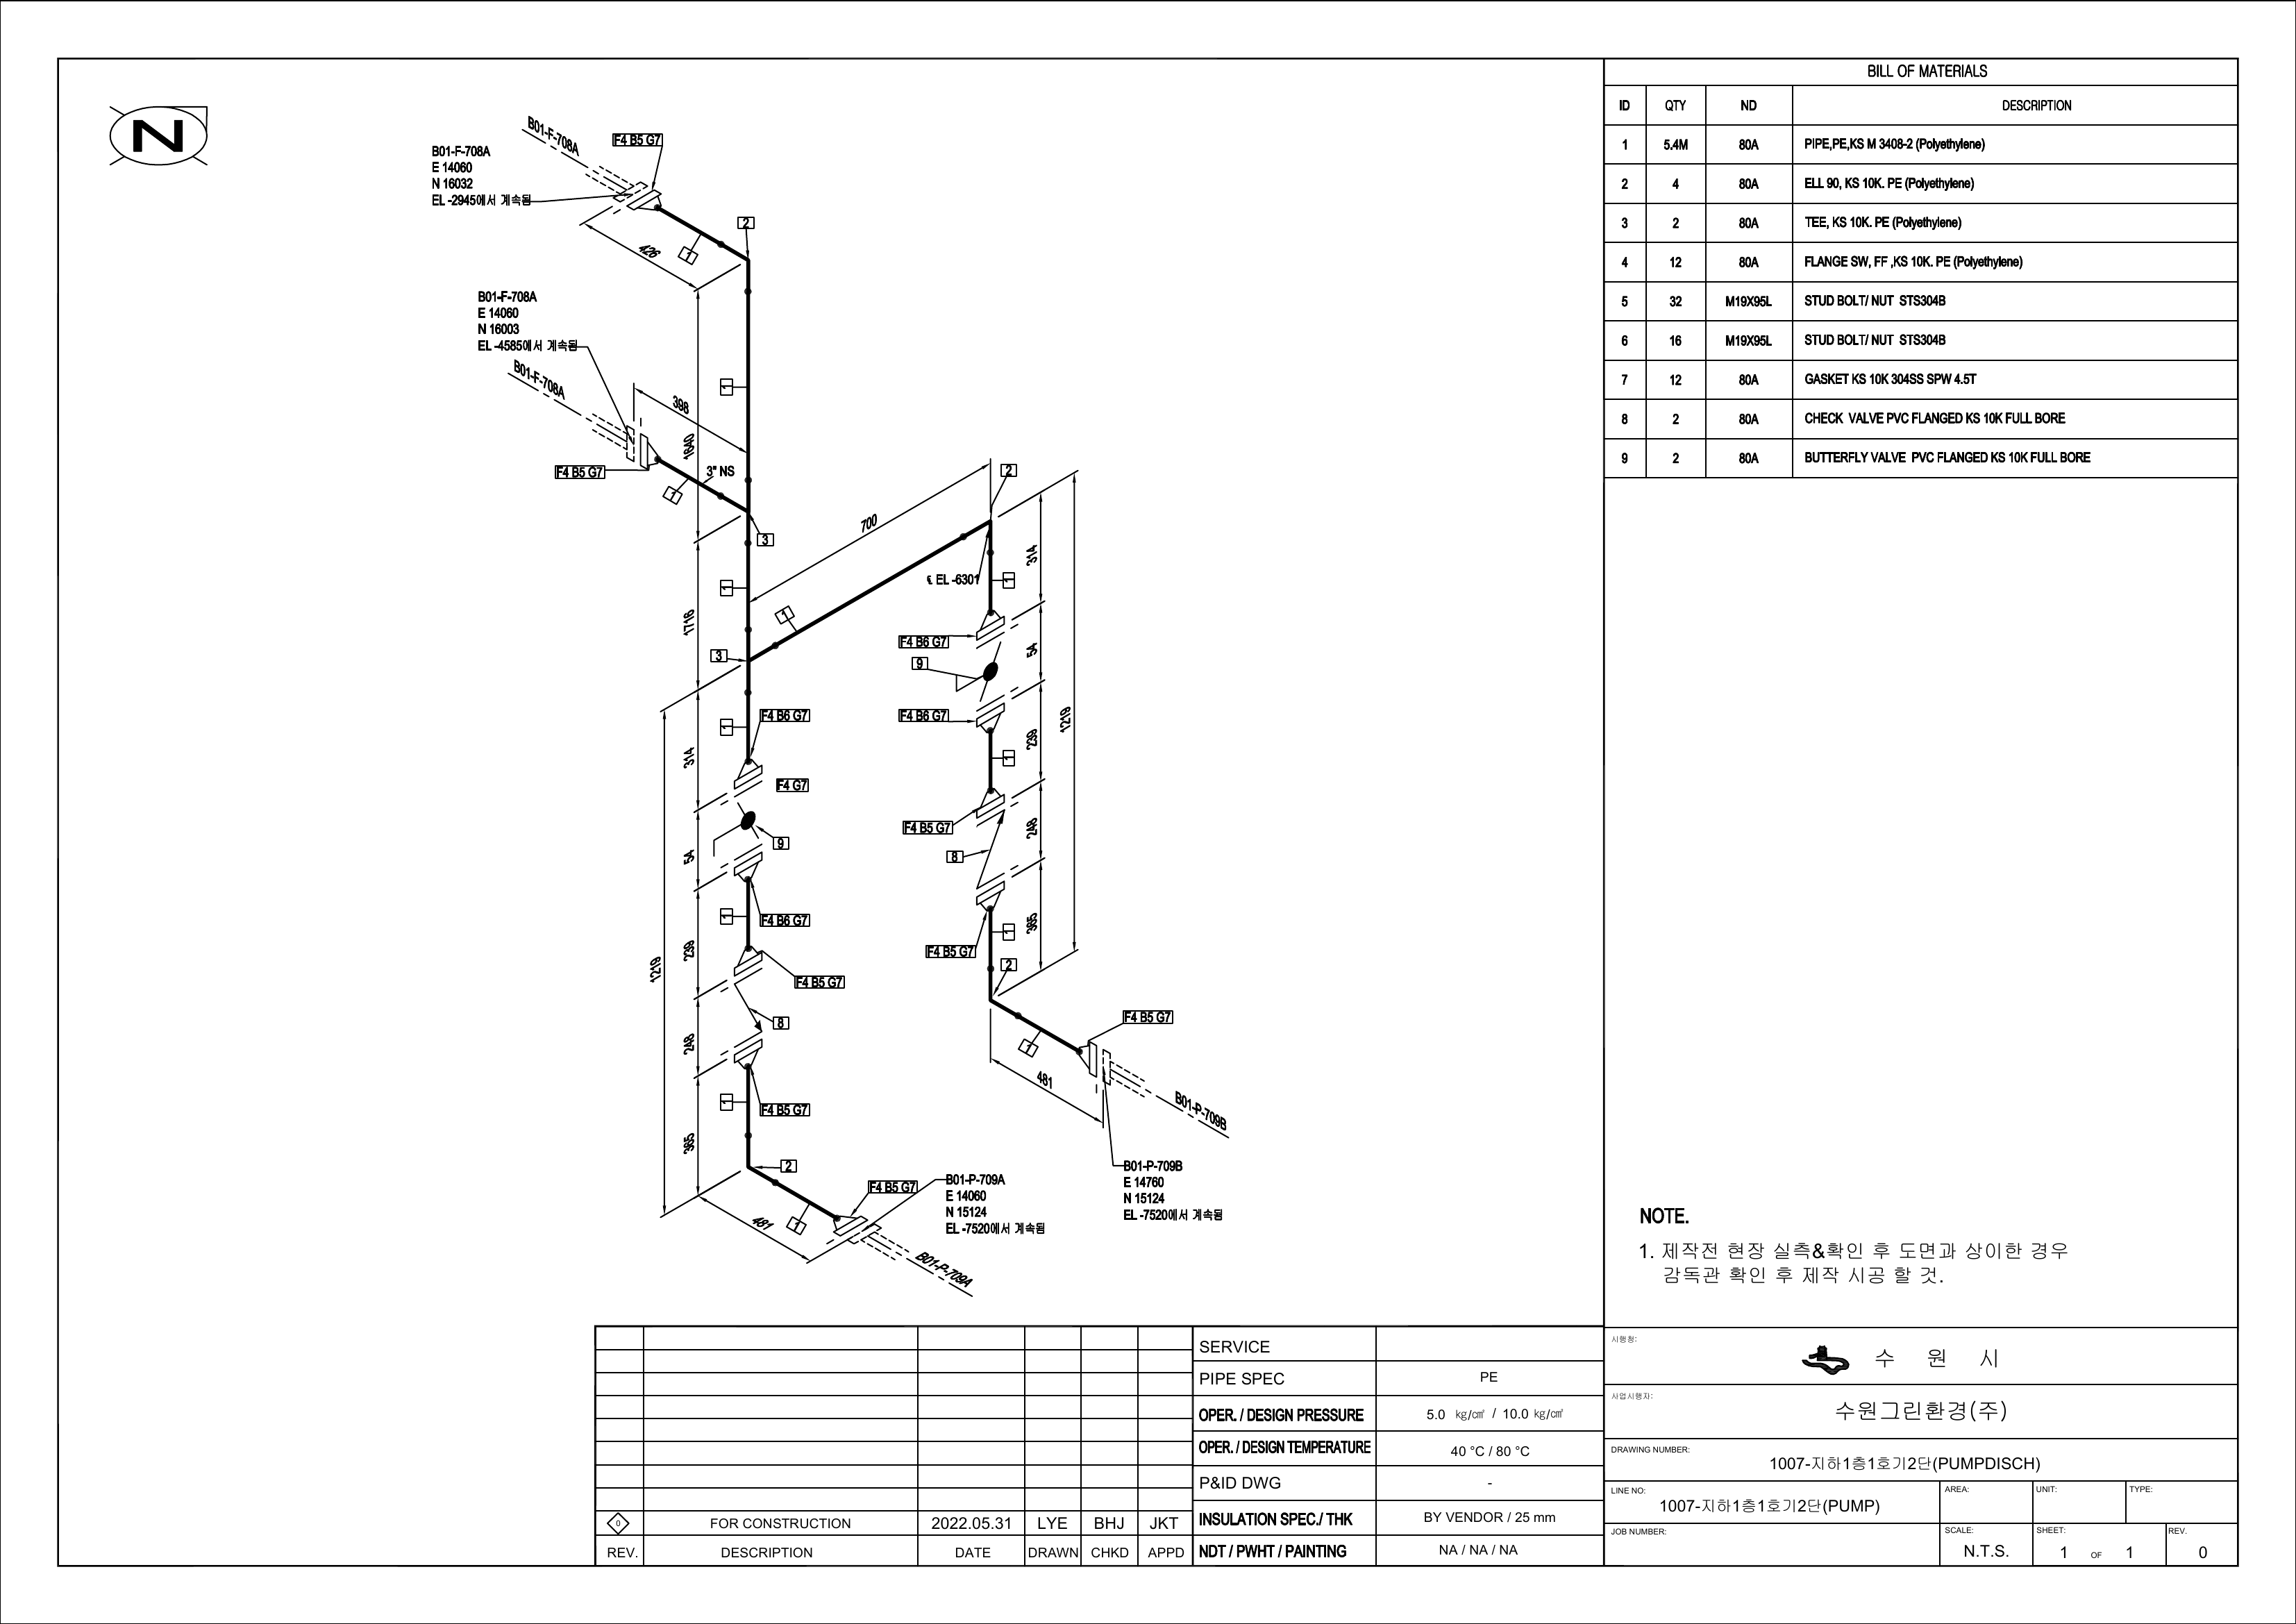table: (1599, 49, 2242, 487)
